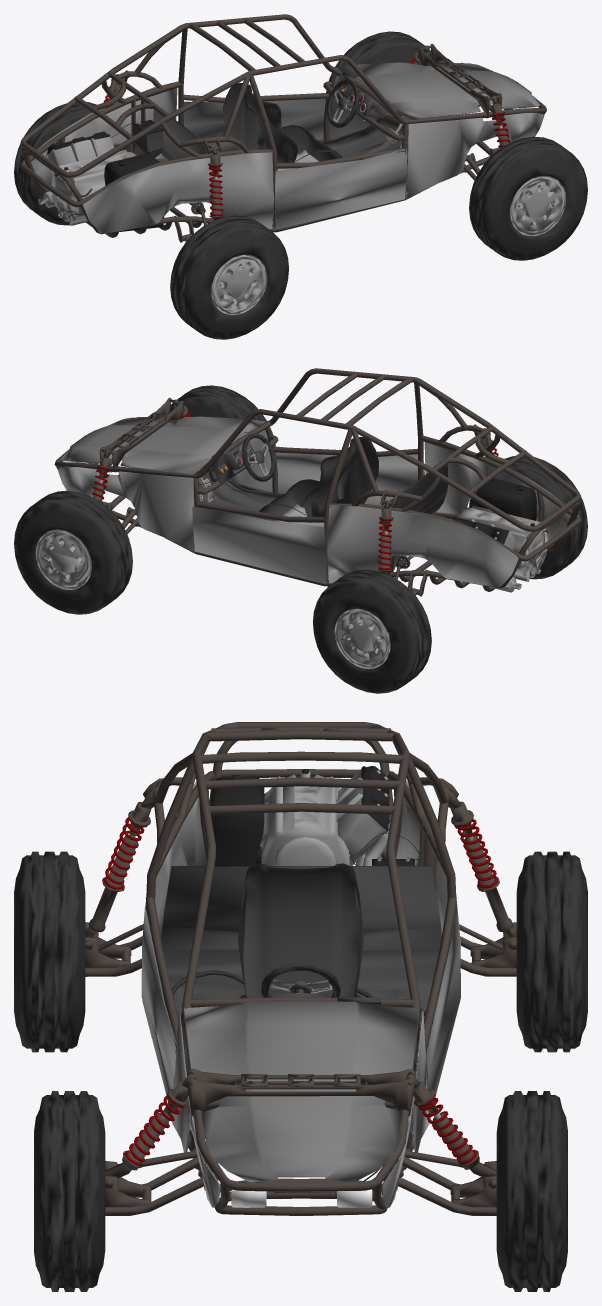
File: dune_runner.glb
3 views of the same model, one above another, from view 1: azimuth 30°, elevation 25°; view 2: azimuth 150°, elevation 25°; view 3: azimuth 270°, elevation 25° (orthographic). The views are drawn at different scales.
Visible parts, largest first — view 1: body, wheel_RR, wheel_FR, wheel_RL, wheel_FL; view 2: body, wheel_FL, wheel_RL, wheel_RR, wheel_FR; view 3: body, wheel_RR, wheel_RL, wheel_FL, wheel_FR.
Boxes of the visible parts, <box> form: body: <box>20,14,546,242</box>; wheel_RR: <box>170,215,288,339</box>; wheel_FR: <box>469,136,587,260</box>; wheel_RL: <box>14,102,130,225</box>; wheel_FL: <box>326,31,431,92</box>; body: <box>54,368,581,596</box>; wheel_FL: <box>14,490,132,614</box>; wheel_RL: <box>313,569,431,693</box>; wheel_RR: <box>469,456,587,579</box>; wheel_FR: <box>170,385,275,446</box>; body: <box>85,722,516,1215</box>; wheel_RR: <box>14,851,85,1052</box>; wheel_RL: <box>516,851,587,1052</box>; wheel_FL: <box>496,1091,567,1291</box>; wheel_FR: <box>34,1091,105,1291</box>.
Size of the model in its own units: 3.32 by 1.41 by 2.11.
